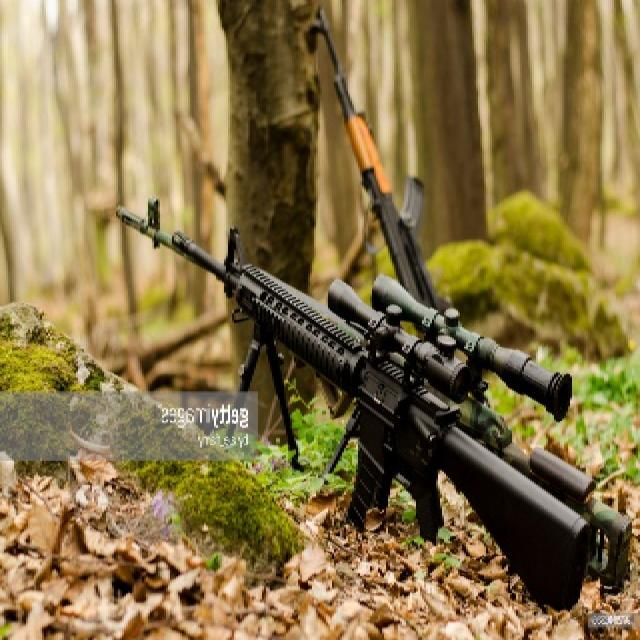rifle: (93, 191, 617, 623), (305, 1, 455, 293)
